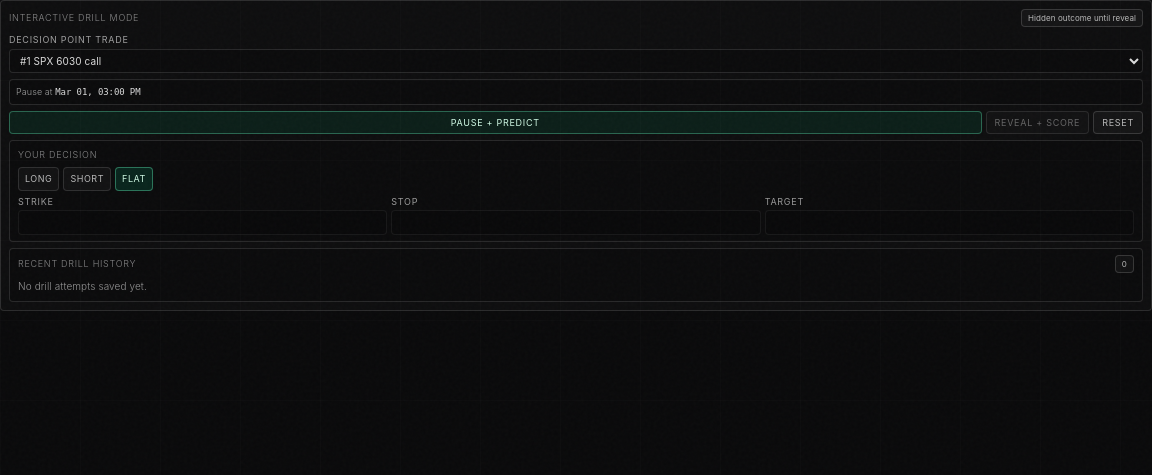
Scenario: spx-command-center/replay-drill-mode › pauses, hides future outcome, and reveals scored comparison after submit
Click the button with test id "spx-replay-drill-start" at (495, 122), box [9,111,982,134]
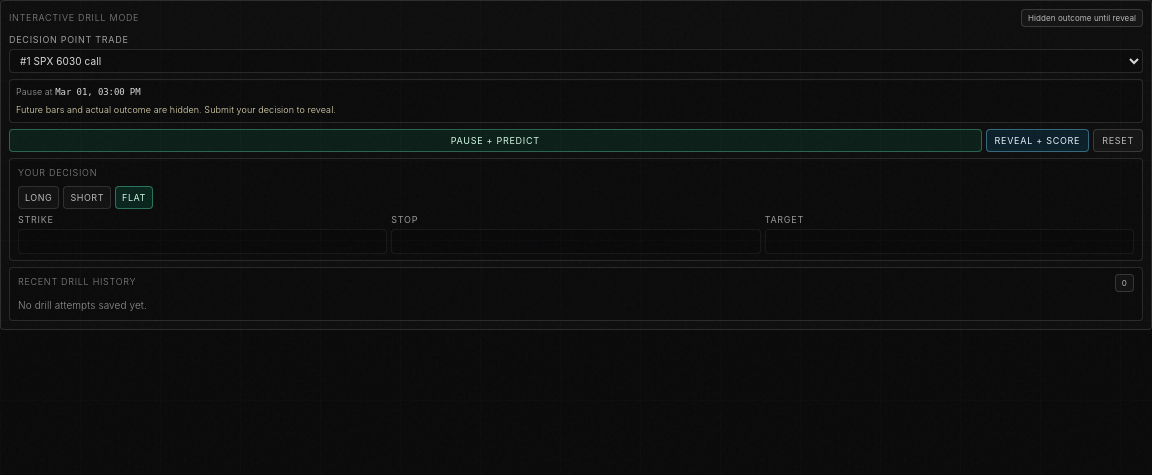
Result: the text with test id "spx-replay-drill-hidden" is shown at [16,104,336,115]
Click the button with test id "spx-replay-drill-direction-long" at (39, 197), box [18,186,59,209]
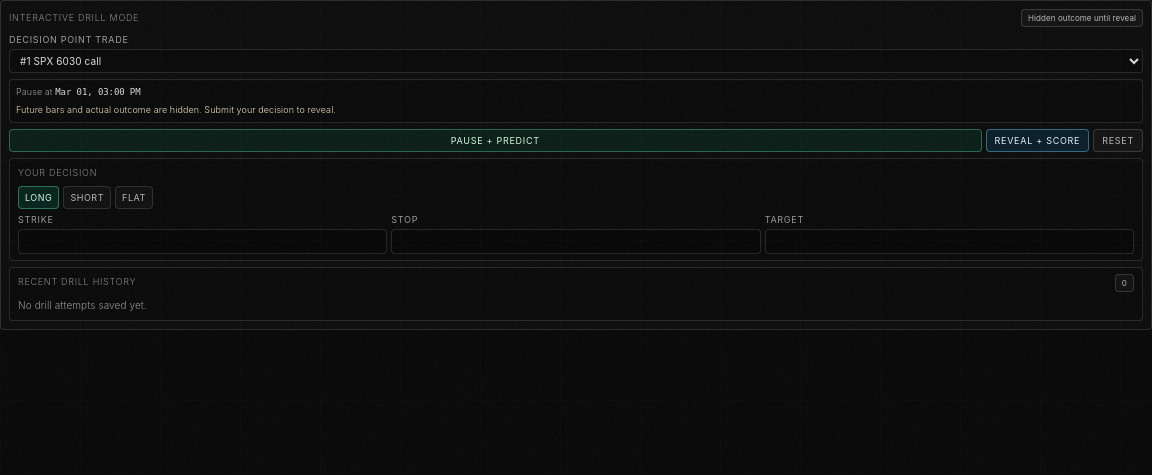
Type "6030" into the number field with test id "spx-replay-drill-input-strike" at (203, 241), box [18,229,387,254]
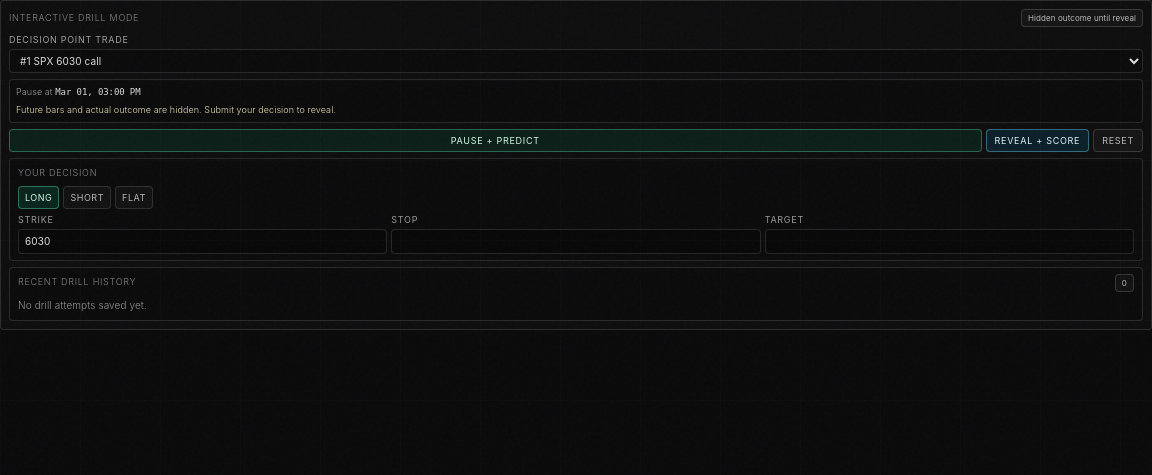
Type "6025" into the number field with test id "spx-replay-drill-input-stop" at (576, 241), box [391,229,761,254]
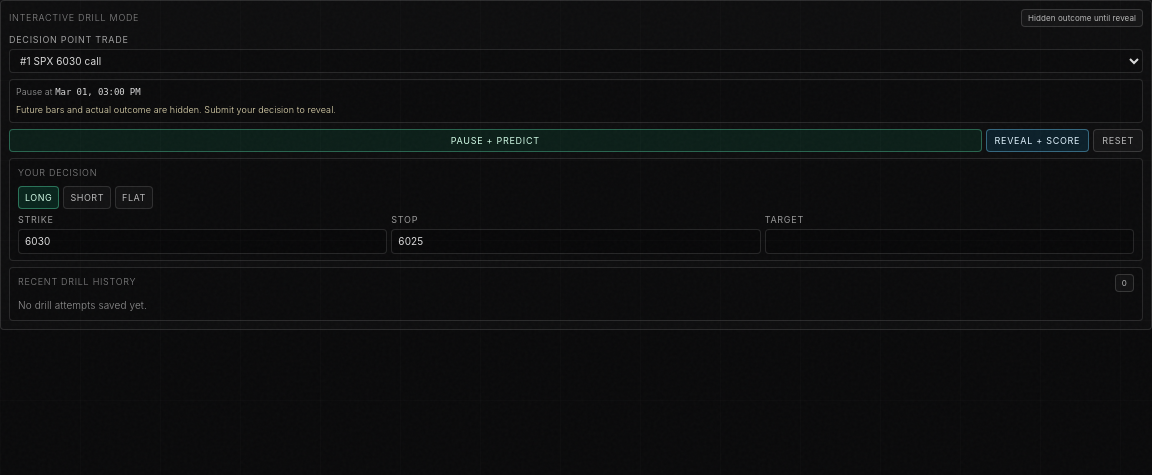
Type "6040" into the number field with test id "spx-replay-drill-input-target" at (949, 241), box [765,229,1134,254]
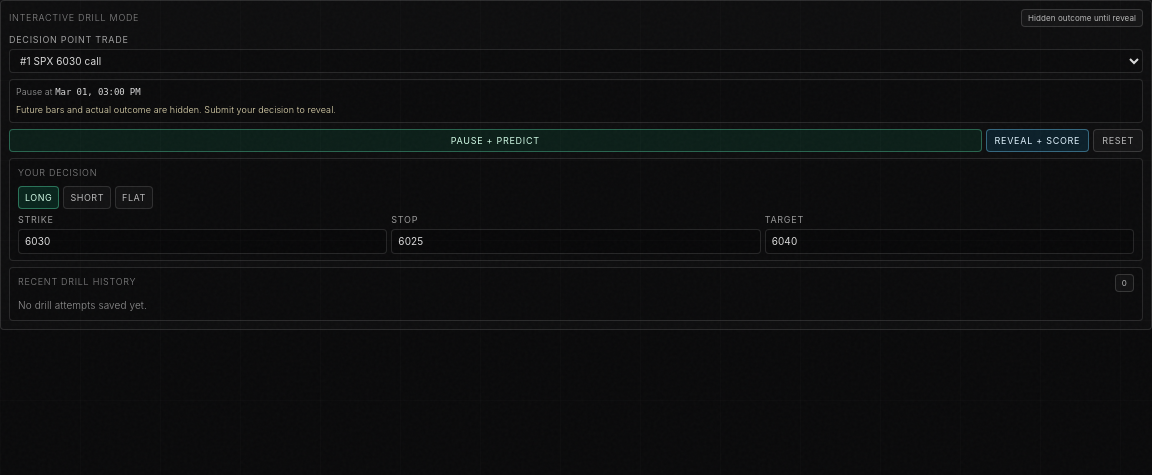
Click the button with test id "spx-replay-drill-reveal" at (1037, 141), box [986,129,1089,152]
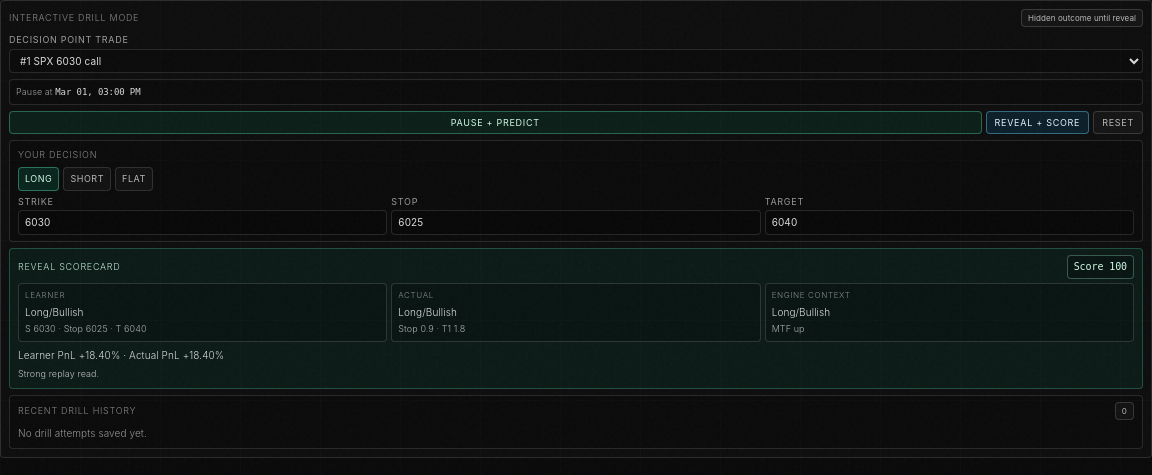
Result: the element with test id "spx-replay-drill-reveal-panel" is shown at [9,248,1143,389]
Result: the text with test id "spx-replay-drill-score" reads "Score 100" at [1067,255,1134,279]
